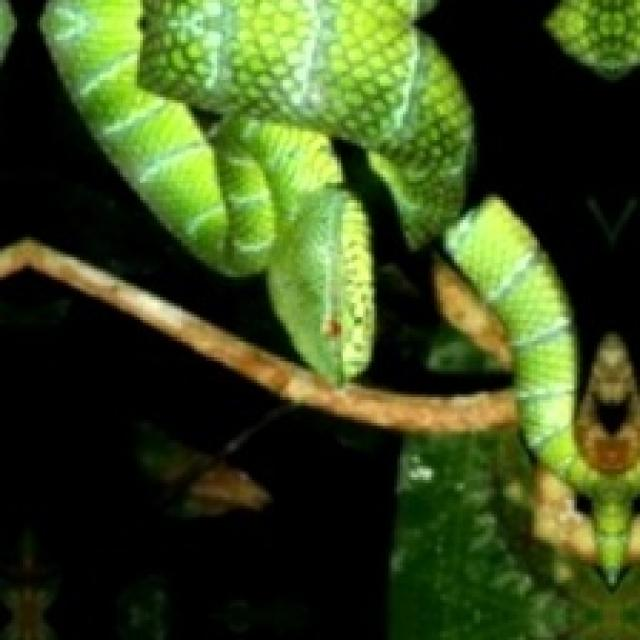north ph temple pitviper: (43, 0, 637, 580)
